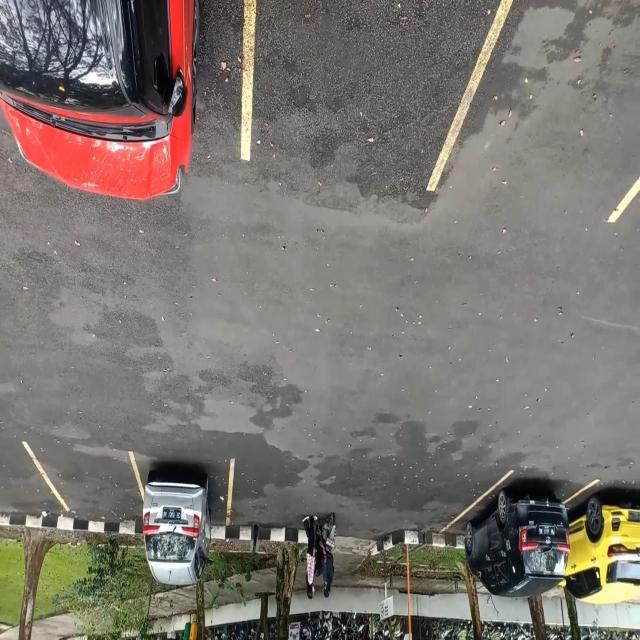empty: (242, 0, 472, 191), (470, 0, 640, 221), (38, 448, 141, 527)
occupied: (463, 470, 573, 574), (138, 455, 233, 554), (570, 477, 640, 587)
